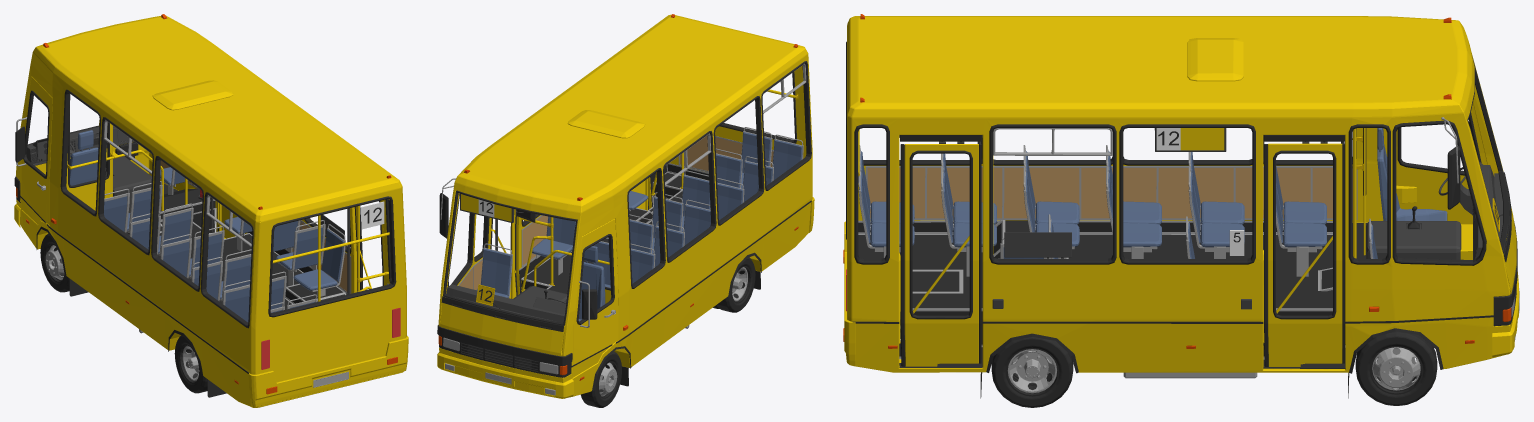
Rendered from etalon_a079_bus_low_poly_easy_stylised.glb.
3 views of the same model, side by side, from view 1: azimuth 30°, elevation 25°; view 2: azimuth 150°, elevation 25°; view 3: azimuth 270°, elevation 25° (orthographic). The views are drawn at different scales.
Parts seen in each view (by area): view 1: Object170_yellow_0, Object165_rubber_0, Box047, Object185_rubber_0, Object366_sit_0, Object142_yellow_0, Object169_rubber_0, Cylinder011, Box140, Object157_yellow_0, Object367_sit_0, Object164_rubber_0 (+26 smaller); view 2: Object170_yellow_0, Object165_rubber_0, Object345_yellow_0, Object142_yellow_0, Box043, Object185_rubber_0, Object366_sit_0, Object182_Material #160_0, Object175_yellow_0, Object136_Material #158_0, Object376_rubber_0, Object157_yellow_0 (+33 smaller); view 3: Object170_yellow_0, Object182_Material #160_0, Object185_rubber_0, Object132_yellow_0, Object140_yellow_0, Object162_rubber_0, Object152_rubber_0, Box069, Object153_rubber_0, Object142_yellow_0, Object160_rubber_0, Object157_yellow_0 (+40 smaller).
Part boxes in pixels (<box>): Object170_yellow_0: <box>16,15,406,407</box>; Object165_rubber_0: <box>60,89,203,291</box>; Box047: <box>248,336,408,407</box>; Object185_rubber_0: <box>126,182,346,309</box>; Object366_sit_0: <box>160,167,323,269</box>; Object142_yellow_0: <box>21,77,52,224</box>; Object169_rubber_0: <box>268,196,396,317</box>; Cylinder011: <box>69,150,389,301</box>; Box140: <box>104,185,224,278</box>; Object157_yellow_0: <box>152,80,233,110</box>; Object367_sit_0: <box>293,229,343,290</box>; Object164_rubber_0: <box>200,192,253,328</box>; Object170_yellow_0: <box>438,14,812,398</box>; Object165_rubber_0: <box>627,96,764,288</box>; Object345_yellow_0: <box>440,303,563,356</box>; Object142_yellow_0: <box>572,219,618,377</box>; Box043: <box>437,325,572,377</box>; Object185_rubber_0: <box>519,164,709,293</box>; Object366_sit_0: <box>476,216,575,297</box>; Object182_Material #160_0: <box>459,135,773,289</box>; Object175_yellow_0: <box>437,352,573,398</box>; Object136_Material #158_0: <box>446,284,566,323</box>; Object376_rubber_0: <box>443,190,577,325</box>; Object157_yellow_0: <box>567,110,644,138</box>; Object170_yellow_0: <box>847,16,1515,372</box>; Object182_Material #160_0: <box>867,168,1352,218</box>; Object185_rubber_0: <box>858,220,1367,368</box>; Object132_yellow_0: <box>1268,143,1342,366</box>; Object140_yellow_0: <box>904,144,978,366</box>; Object162_rubber_0: <box>1348,120,1486,265</box>; Object152_rubber_0: <box>1355,331,1437,405</box>; Box069: <box>1366,221,1461,259</box>; Object153_rubber_0: <box>991,337,1073,407</box>; Object142_yellow_0: <box>1396,103,1487,224</box>; Object160_rubber_0: <box>1119,124,1255,264</box>; Object157_yellow_0: <box>1187,38,1243,81</box>.
Size of what is drawn, in the model's own units: 6.56 by 8.53 by 17.05.
